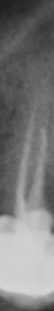fracture: (37, 124, 47, 161)
